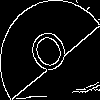O: (25, 25, 77, 86)
